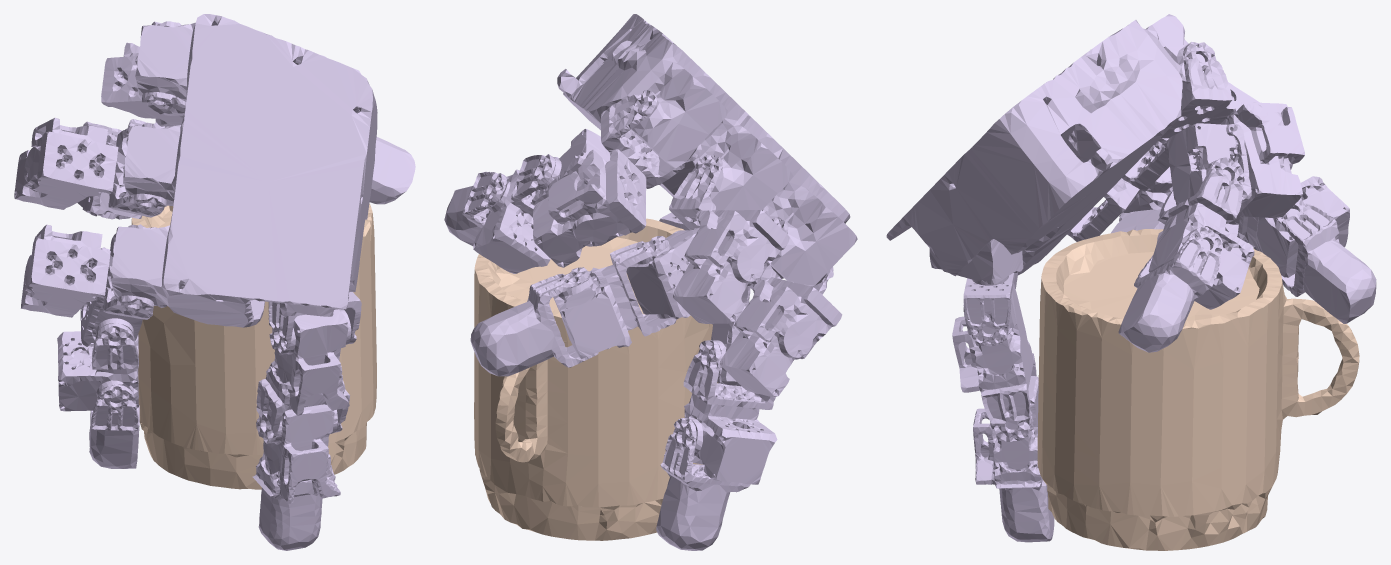
The model's file is 216f45aa6353d6-closed.glb.
3 views of the same model, side by side, from view 1: azimuth 30°, elevation 25°; view 2: azimuth 150°, elevation 25°; view 3: azimuth 270°, elevation 25° (orthographic).
Visible parts, largest first — view 1: LEAP_hand, world; view 2: LEAP_hand, world; view 3: LEAP_hand, world.
Boxes of the visible parts, bbox=[...] form: LEAP_hand: bbox=[14, 14, 415, 550]; world: bbox=[131, 203, 376, 489]; LEAP_hand: bbox=[444, 14, 857, 550]; world: bbox=[474, 218, 717, 540]; LEAP_hand: bbox=[886, 14, 1376, 542]; world: bbox=[1037, 229, 1359, 550].
Size of the model in its own units: 0.1889 by 0.2369 by 0.2097.
